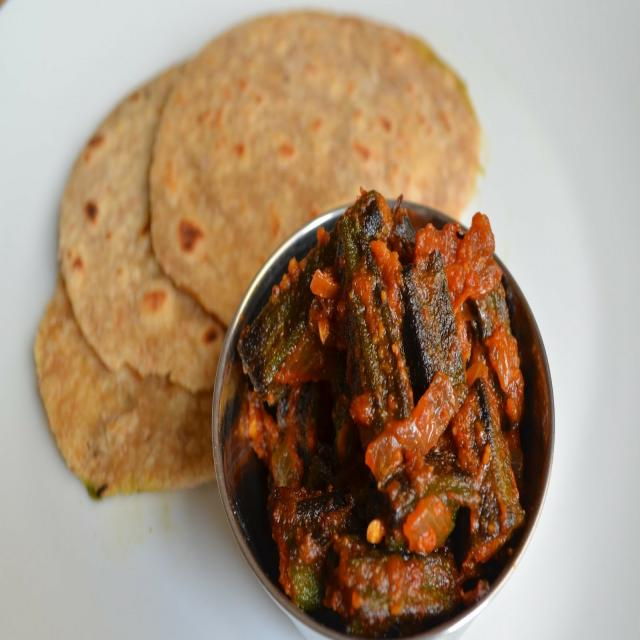BhindiMasala: (235, 190, 525, 640)
